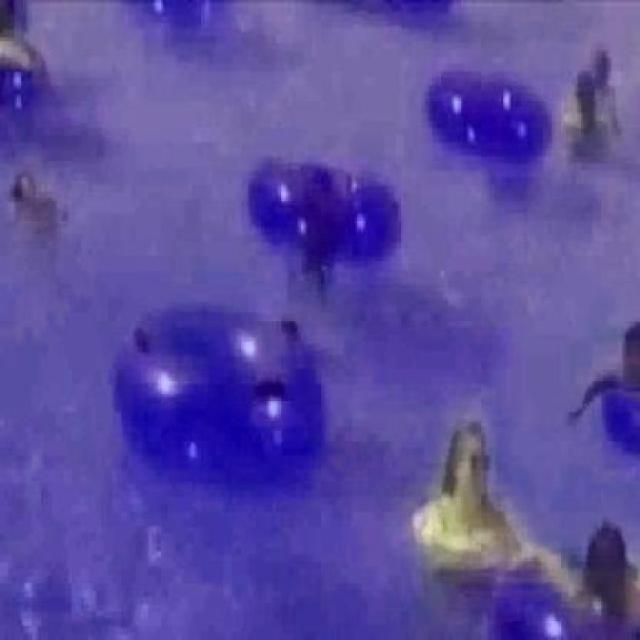drowning: (410, 404, 513, 579), (5, 148, 73, 249), (564, 73, 605, 179), (597, 43, 626, 157)
